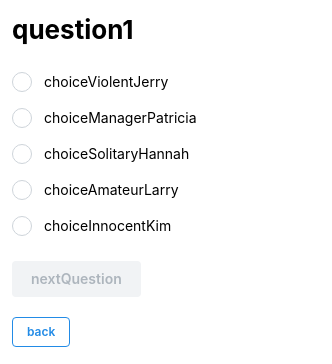
Test case: moves to second question after clicking next
The width and height of the screenshot is (332, 364).
Click the text "choiceViolentJerry" at (100, 82), box 32,72 -> 168,92
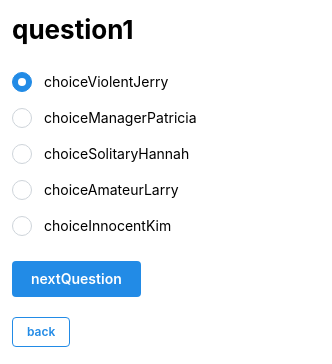
Click the button "nextQuestion" at (76, 279), box 12,261 -> 141,297
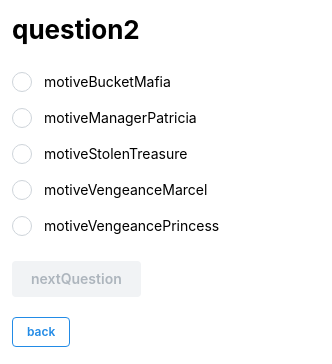
Expected: the heading "question2" is shown, 12,14 -> 140,45
